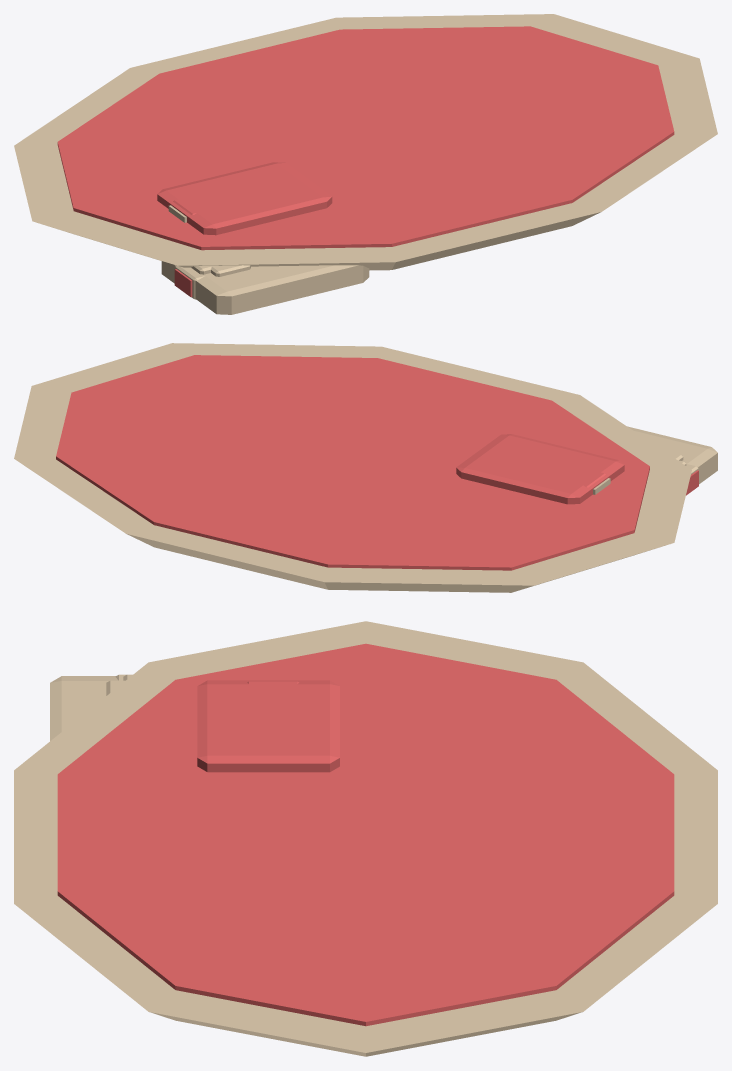
Rendered from b16_discarded_six_pack_rings.glb.
The picture shows the model from 3 angles, top to bottom: view 1: azimuth 30°, elevation 25°; view 2: azimuth 150°, elevation 25°; view 3: azimuth 270°, elevation 25°; orthographic projection. The views are drawn at different scales.
Visible parts, largest first — view 1: b16_discarded_six_pack_rings; view 2: b16_discarded_six_pack_rings; view 3: b16_discarded_six_pack_rings.
Boxes of the visible parts, left/top/right/bottom form: b16_discarded_six_pack_rings: left=14, top=14, right=717, bottom=314; b16_discarded_six_pack_rings: left=14, top=343, right=717, bottom=592; b16_discarded_six_pack_rings: left=14, top=621, right=717, bottom=1056.
Bounding box in the file's own units: 0.18 × 0.01 × 0.124.
